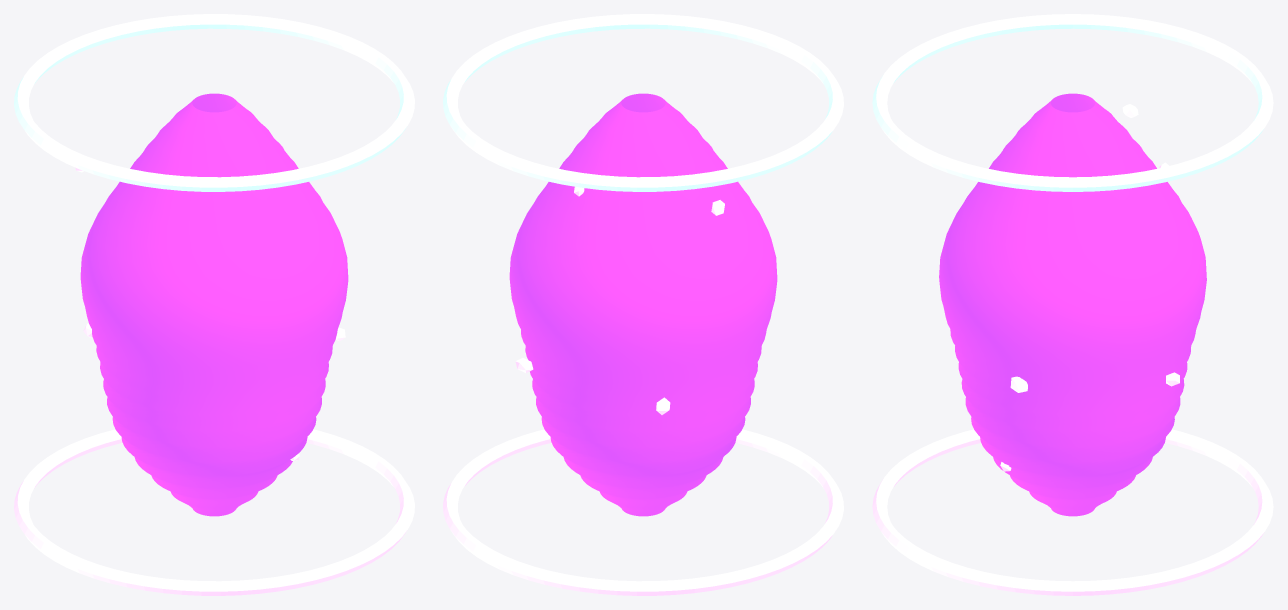
File: wormhole.glb
3 renders of one model, left to right at view 1: azimuth 30°, elevation 25°; view 2: azimuth 150°, elevation 25°; view 3: azimuth 270°, elevation 25°, orthographic.
Visible parts, largest first — view 1: Wormhole, Torus.001, Torus.002; view 2: Wormhole, Torus.001, Torus.002; view 3: Wormhole, Torus.001, Torus.002.
Boxes of the visible parts, box(x1,y1,x2,y2) form: Wormhole: box(80, 93, 348, 516); Torus.001: box(14, 14, 414, 191); Torus.002: box(14, 429, 414, 595); Wormhole: box(509, 93, 777, 516); Torus.001: box(443, 14, 843, 191); Torus.002: box(443, 429, 843, 595); Wormhole: box(939, 93, 1206, 516); Torus.001: box(872, 14, 1273, 191); Torus.002: box(872, 429, 1273, 595).
Bounding box in the file's own units: 2.7 × 3.09 × 2.7.
